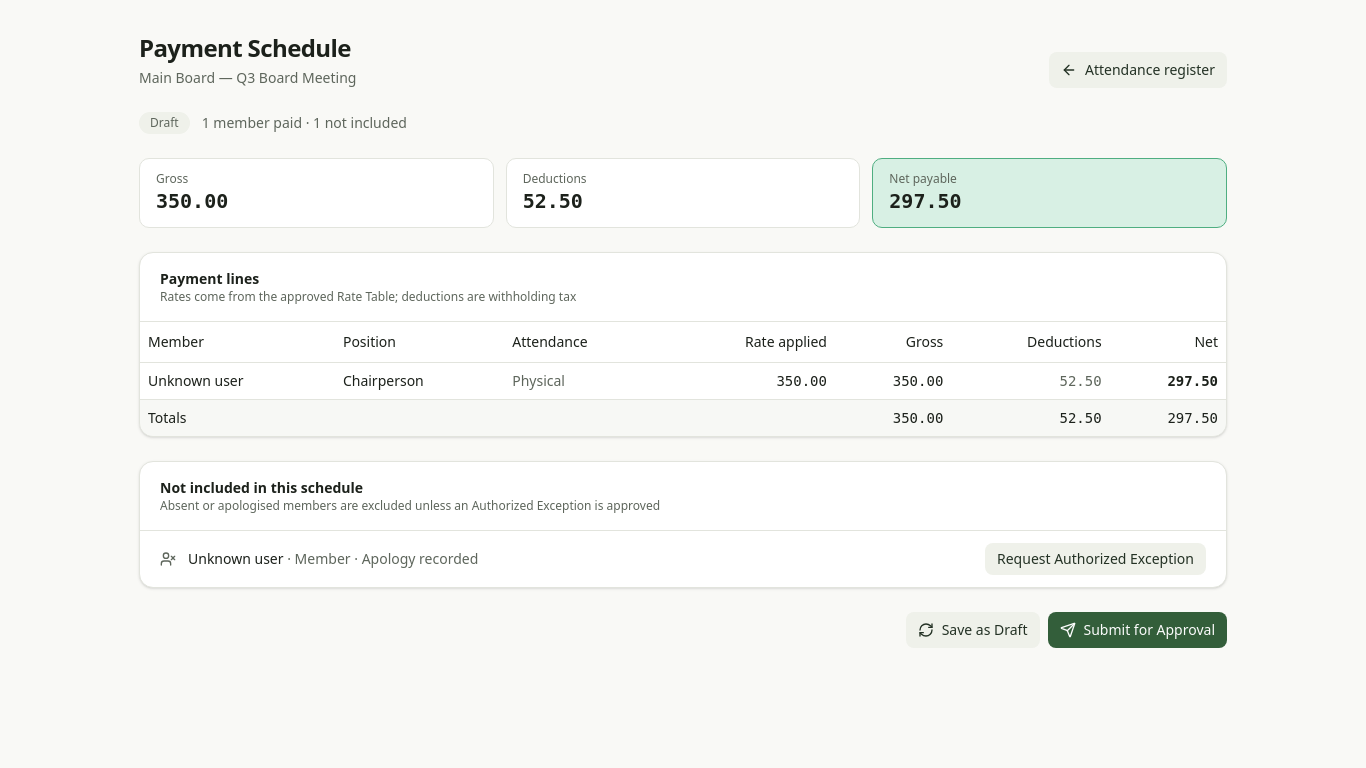
it: StaffPaymentSchedule › requests an Authorized Exception for an excluded member
The width and height of the screenshot is (1366, 768).
Click the button "Request Authorized Exception" at point(1096, 558), box x1=985 y1=542 x2=1206 y2=574
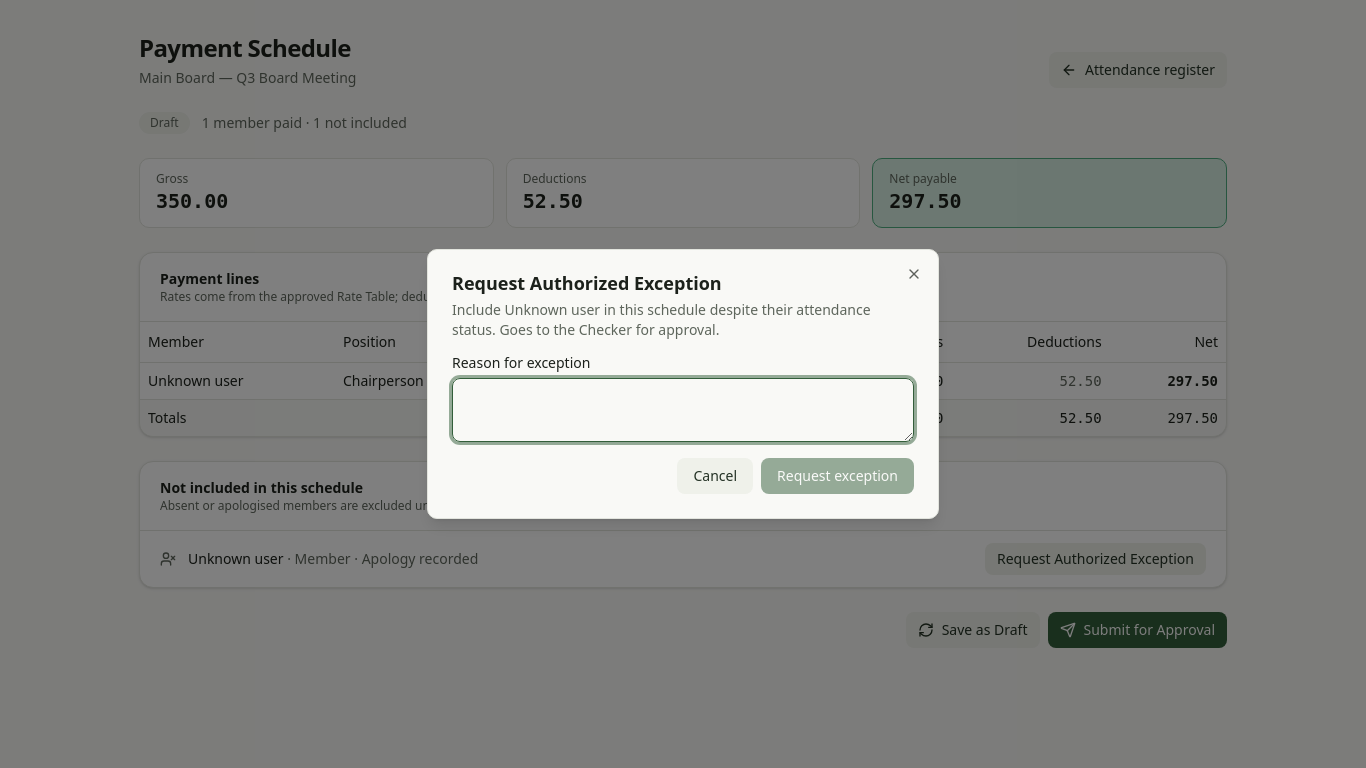
Type "Late-recorded attendance" into the text box labelled "Reason for exception" at point(683, 410), box x1=452 y1=378 x2=914 y2=442
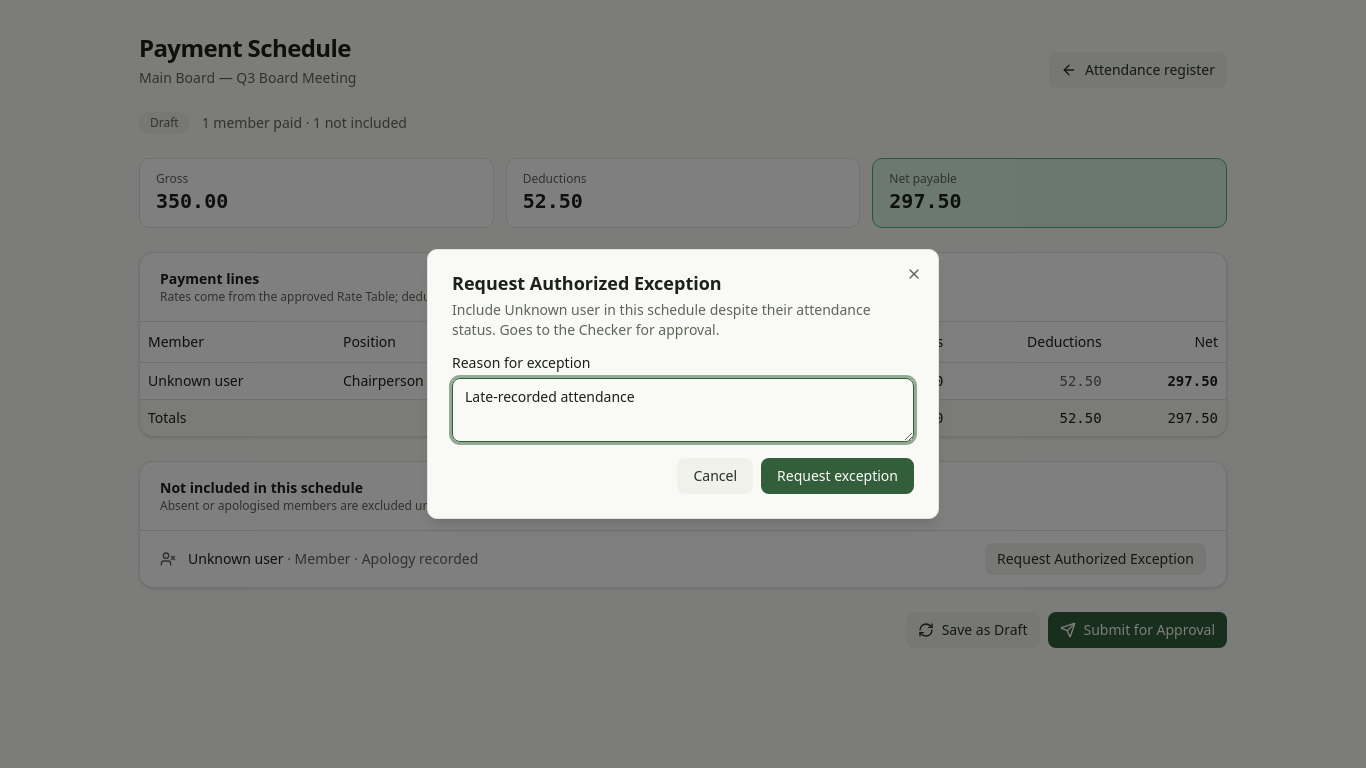
Click the button "Request exception" at point(838, 476), box x1=761 y1=458 x2=914 y2=494
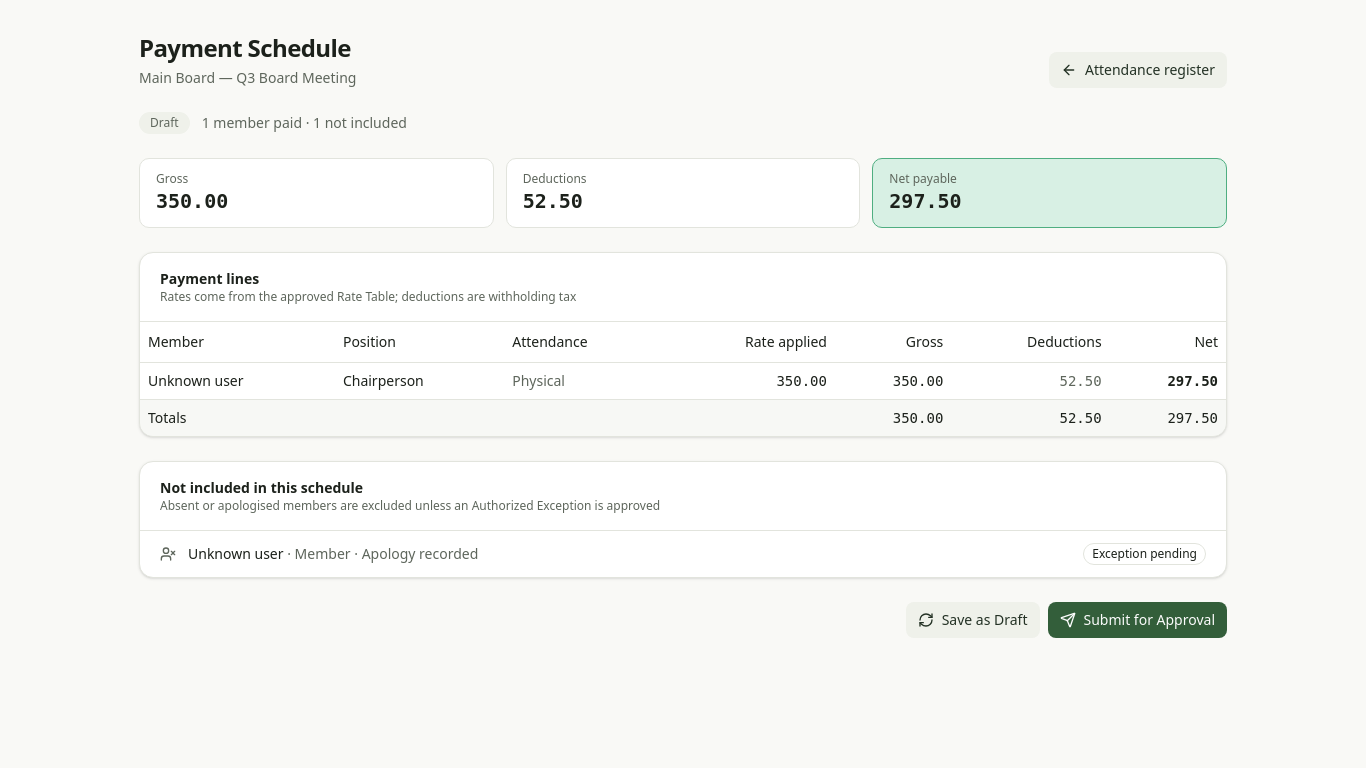
Expected: the text "Exception pending" is shown, x1=1083 y1=542 x2=1206 y2=564
